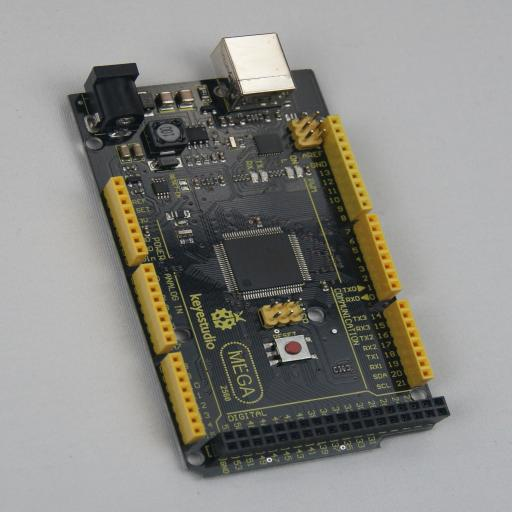Arduino Mega 2560 -Black and Yellow-: (68, 32, 450, 478)
